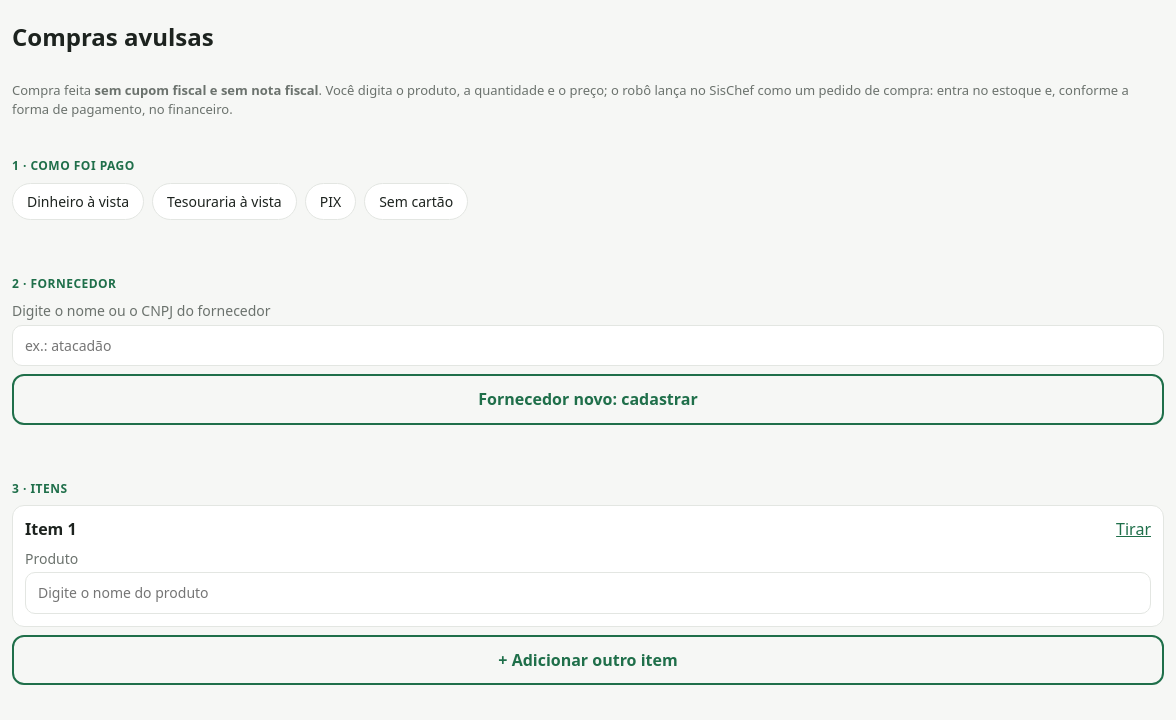
CompraAvulsa › o Lançar só acende com forma, fornecedor e itens completos; mostra a soma e o que falta
Click the button "Sem cartão" at (416, 201), box [364,183,468,220]
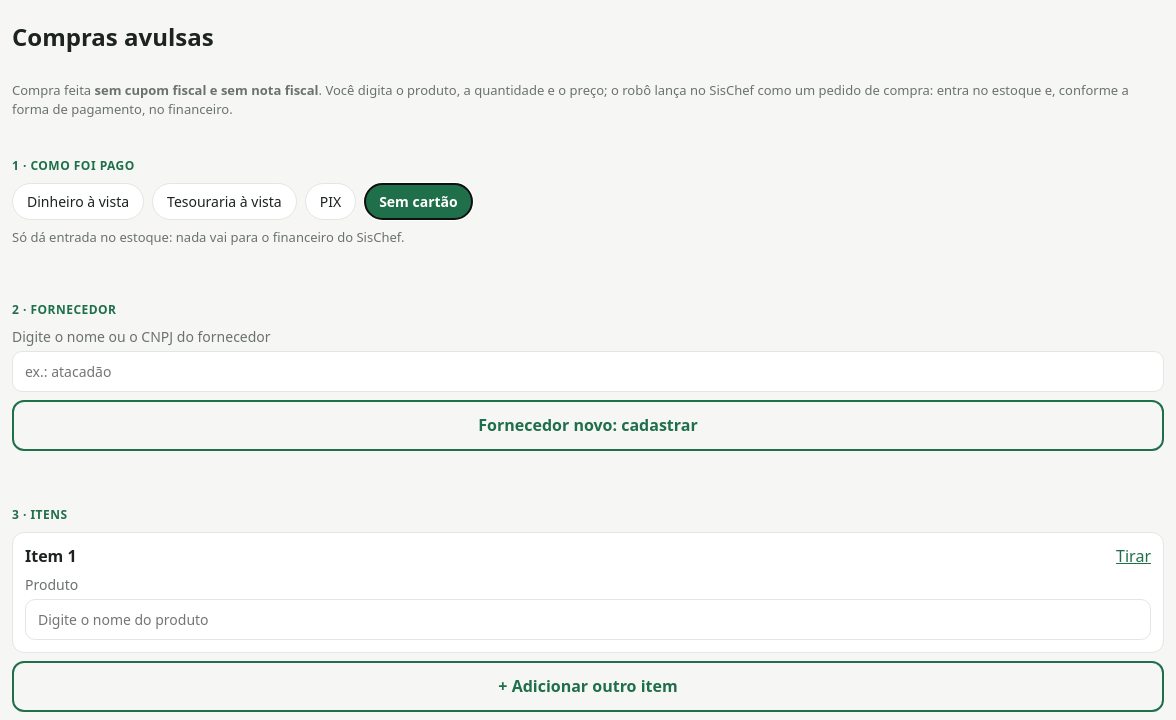
expect the text with test id "aviso-sem-financeiro" shows "nada vai para o financeiro": met, box [12,228,404,246]
